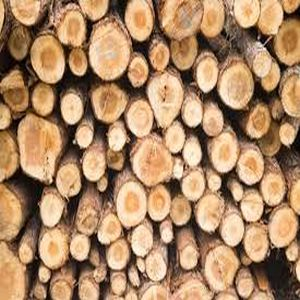log: (15, 111, 65, 189), (87, 16, 136, 85), (144, 69, 186, 130), (217, 57, 257, 114), (131, 134, 174, 187), (29, 30, 69, 86), (86, 79, 128, 127), (157, 1, 205, 42), (202, 242, 240, 293), (115, 178, 149, 230), (54, 4, 91, 50), (1, 239, 28, 300), (36, 226, 72, 270), (207, 130, 240, 177), (269, 21, 299, 72), (33, 188, 68, 231), (124, 95, 155, 143), (123, 1, 156, 46), (192, 191, 226, 234), (51, 159, 85, 200), (269, 203, 299, 249), (235, 146, 267, 189), (1, 71, 31, 116), (241, 222, 272, 264), (192, 52, 219, 99), (29, 80, 59, 120), (6, 24, 36, 64), (171, 33, 200, 73), (254, 1, 288, 35), (217, 210, 245, 251), (245, 98, 270, 143), (146, 184, 172, 226), (199, 1, 232, 34), (96, 213, 126, 249), (60, 89, 87, 129), (125, 52, 153, 90), (103, 239, 133, 274), (237, 190, 267, 225), (259, 170, 288, 206), (162, 123, 190, 159), (65, 45, 93, 81), (257, 120, 282, 160), (78, 147, 106, 182), (200, 103, 226, 140), (75, 202, 103, 236), (130, 222, 155, 260), (144, 248, 171, 283), (179, 167, 206, 202), (281, 71, 300, 120), (180, 94, 203, 134), (169, 194, 194, 230), (147, 38, 172, 73), (231, 1, 266, 26), (69, 230, 93, 264), (182, 138, 206, 172), (70, 122, 97, 152), (252, 48, 274, 82), (178, 242, 201, 274), (106, 123, 128, 155), (261, 60, 282, 92), (48, 275, 74, 300), (104, 146, 128, 173), (77, 274, 100, 300), (235, 273, 258, 299), (278, 121, 297, 150), (108, 272, 129, 297), (15, 240, 35, 265), (169, 156, 185, 184), (124, 263, 140, 289), (36, 264, 54, 284), (91, 265, 109, 284), (229, 183, 244, 205), (159, 226, 177, 244), (206, 173, 224, 191), (94, 175, 111, 193), (135, 257, 148, 276), (31, 283, 45, 300)
